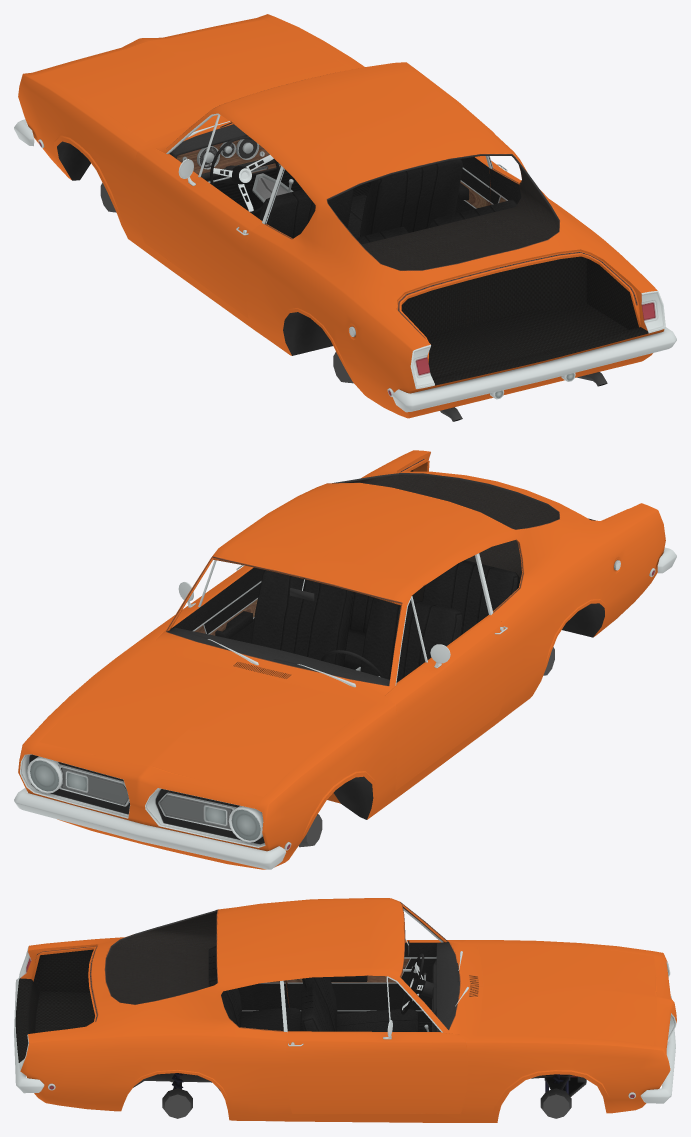
The model's file is car_base.glb.
3 renders of one model, top to bottom at view 1: azimuth 30°, elevation 25°; view 2: azimuth 150°, elevation 25°; view 3: azimuth 270°, elevation 25°, orthographic. The views are drawn at different scales.
Visible parts, largest first — view 1: steer_car_0; view 2: steer_car_0; view 3: steer_car_0.
Boxes of the visible parts, <box> form: steer_car_0: <box>14,14,676,421</box>; steer_car_0: <box>14,450,676,869</box>; steer_car_0: <box>14,898,676,1122</box>.
Size of the model in its own units: 1.62 by 1.07 by 4.2.
1 material, 1 textured.
